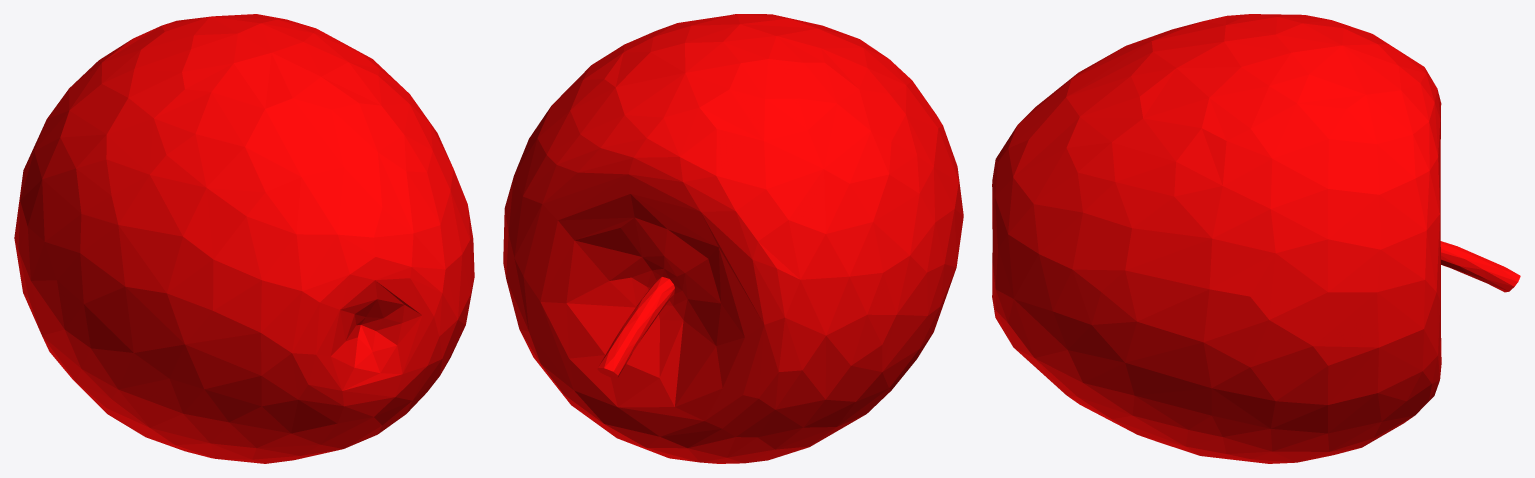
The model's file is apple.dae.
3 views of the same model, side by side, from view 1: azimuth 30°, elevation 25°; view 2: azimuth 150°, elevation 25°; view 3: azimuth 270°, elevation 25° (orthographic).
Parts seen in each view (by area): view 1: node0; view 2: node0; view 3: node0.
Boxes of the visible parts, x1,y1,x2,y2 form: node0: (14,14,474,463); node0: (503,14,963,463); node0: (992,14,1520,463).
Size of the model in its own units: 0.0703 by 0.0824 by 0.0703.
